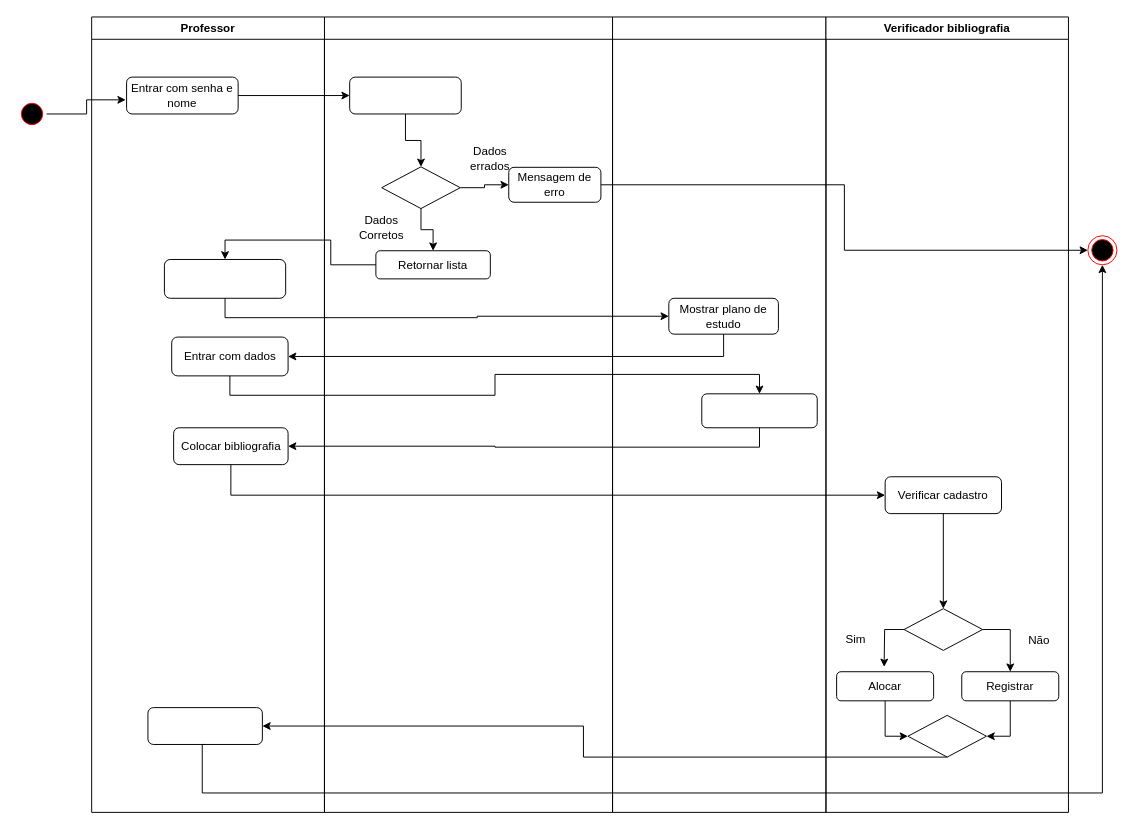
Some shapes in this 1134 by 829 pixel diagram are drawn without their labels. The shapes that lost their labels are listed below. From the top down, each one's box as (x1, y1, x2, y2) in pixels, then its label:
(349, 76, 461, 114): Verificar nome e senha
(163, 259, 286, 298): Selecionar disciplina desejada
(323, 16, 613, 812): Verificador Dados Professor
(612, 16, 826, 812): Tela de dados
(701, 393, 817, 428): Mostrar bibliografia
(147, 707, 262, 744): Apertar botão de concluir
